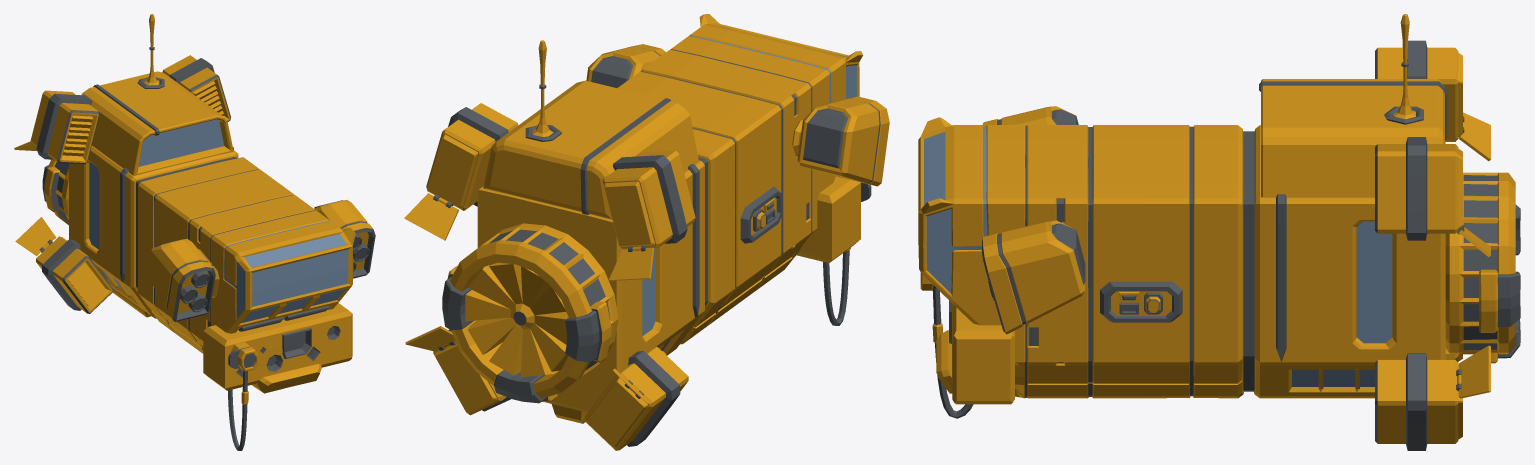
Rendered from Dropship_02_Yellow.fbx.
3 views of the same model, side by side, from view 1: azimuth 30°, elevation 25°; view 2: azimuth 150°, elevation 25°; view 3: azimuth 270°, elevation 25° (orthographic). The views are drawn at different scales.
Parts seen in each view (by area): view 1: Dropship_02_Yellow; view 2: Dropship_02_Yellow; view 3: Dropship_02_Yellow.
Boxes of the visible parts, left/top/right/bottom form: Dropship_02_Yellow: left=14, top=14, right=375, bottom=450; Dropship_02_Yellow: left=404, top=14, right=889, bottom=450; Dropship_02_Yellow: left=918, top=14, right=1520, bottom=450.
Size of the model in its own units: 798 by 1194 by 1443.
3 materials, 3 textured.
